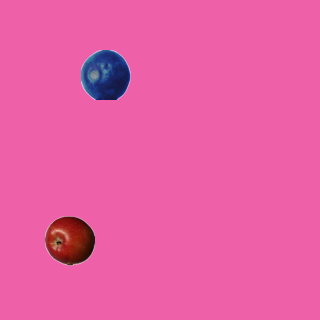Apple Braeburn: (44, 215, 94, 265)
Huckleberry: (80, 49, 130, 99)
